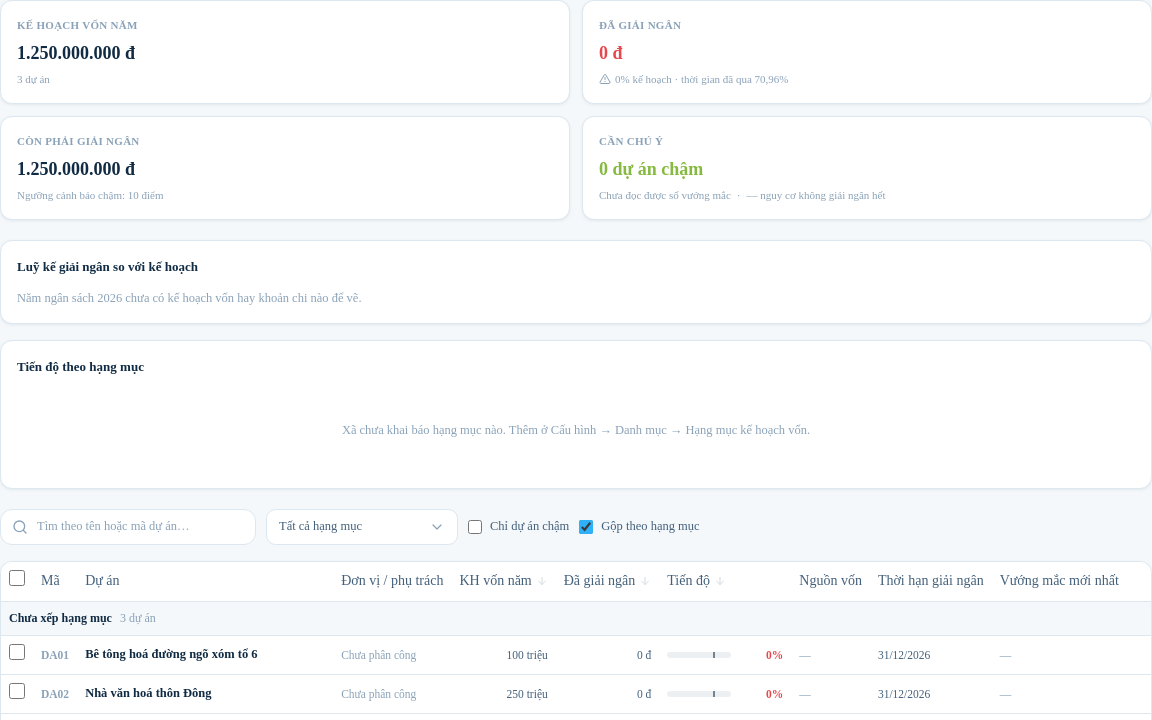
Scenario: Xoá đã chọn — confirm, sequential DELETEs, per-row result, re-read › lists name · code · plan, deletes one by one WITHOUT a reason, reports the refusal verbatim, re-reads
Click the checkbox named "Chọn tất cả dự án đang hiện" at (17, 578), box [9,570,25,586]
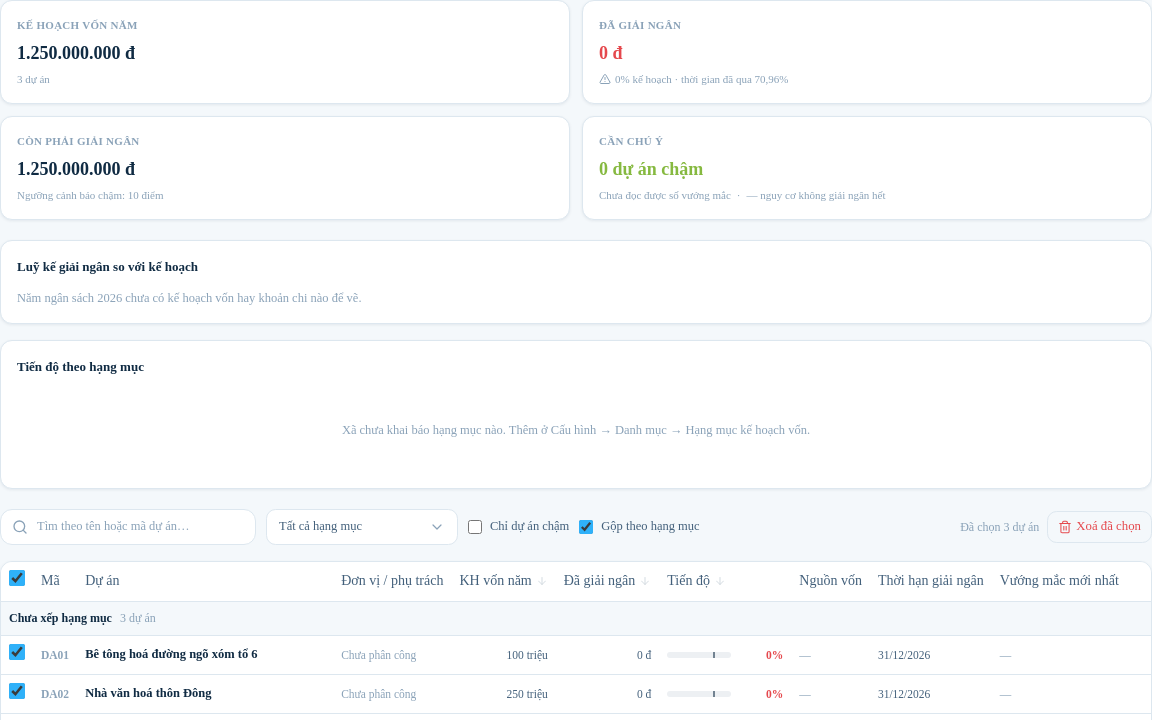
Click the button "Xoá đã chọn" at (1100, 526), box [1047,510,1151,542]
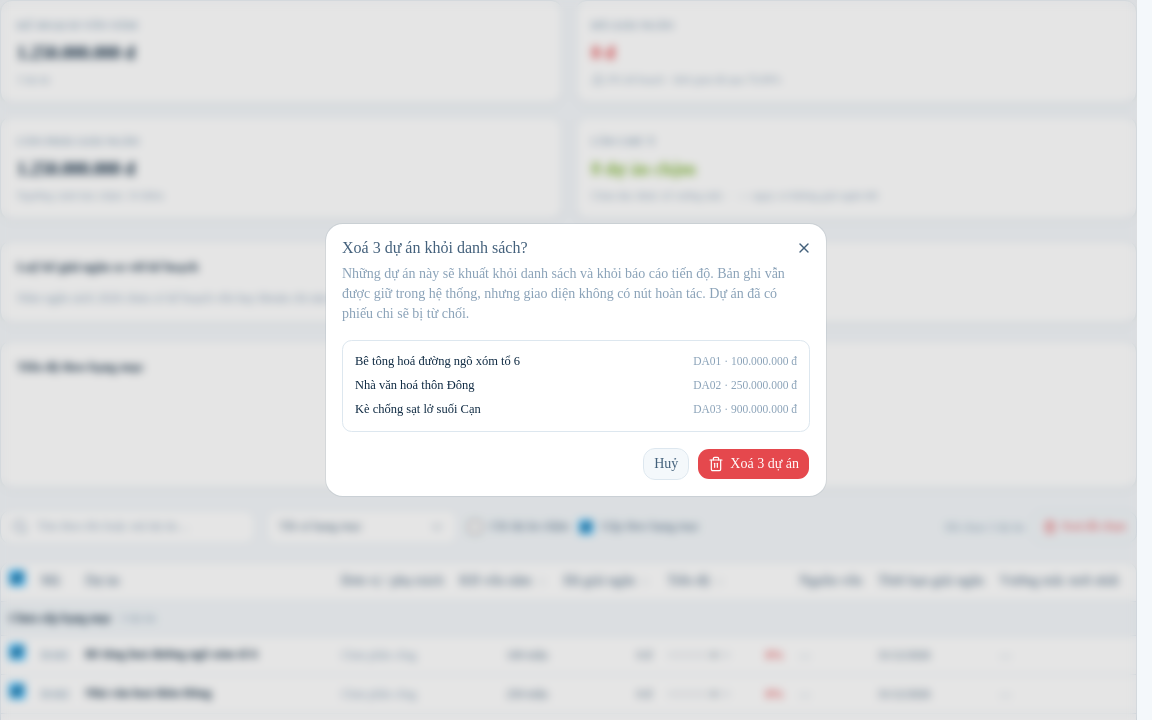
Now the dialog shows "Xoá 3 dự án khỏi danh sách?", box [342,239,528,256]
Click the button "Xoá 3 dự án" at (754, 464), box [697,448,810,480]
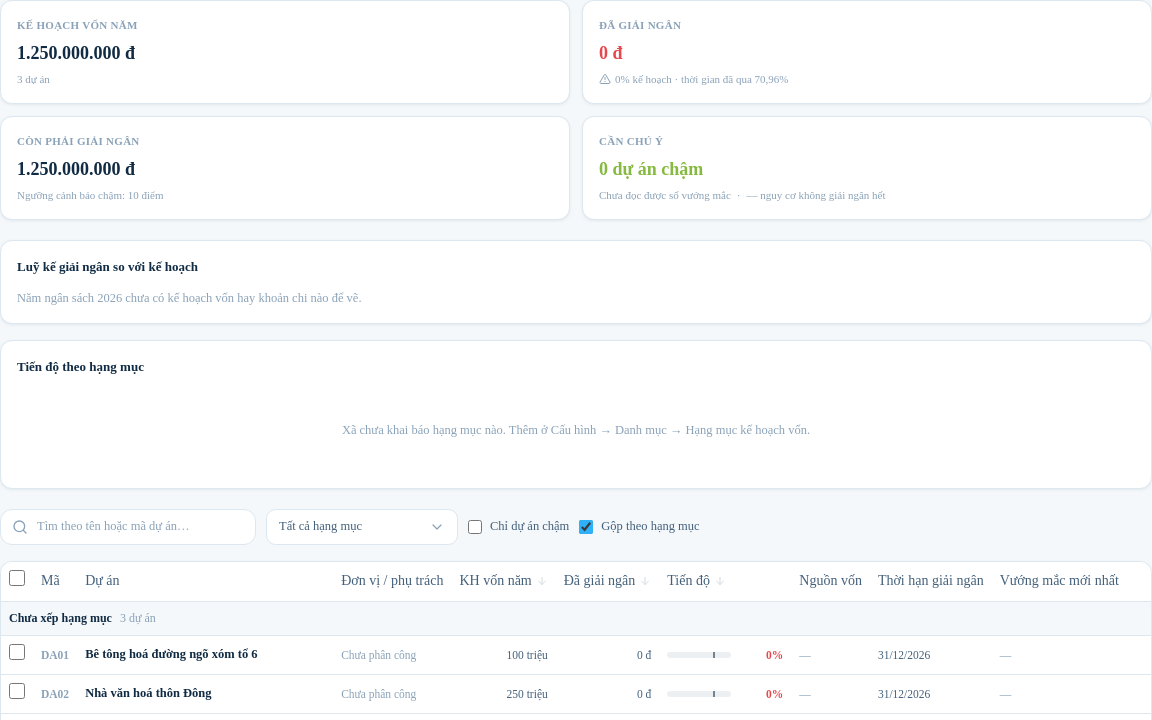
Now the dialog is gone
